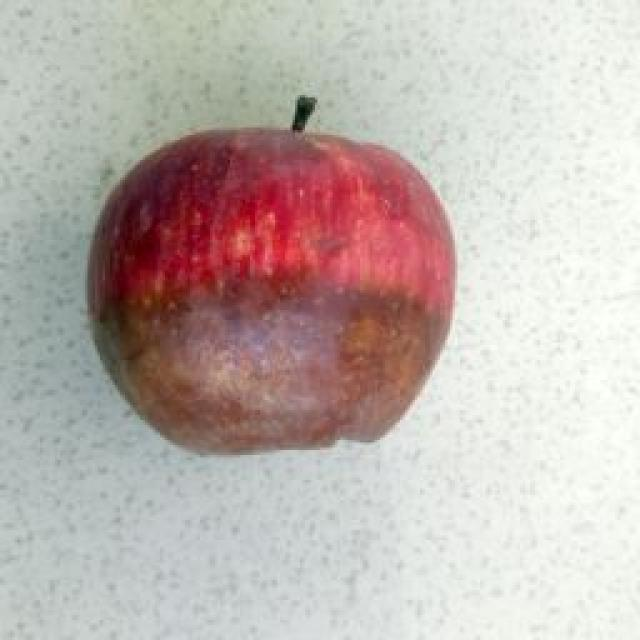Bad_Apple: (90, 98, 455, 452)
